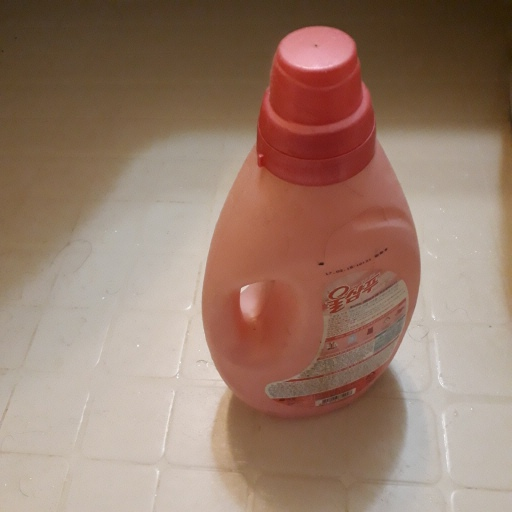Plastic_1: (203, 23, 421, 419)
